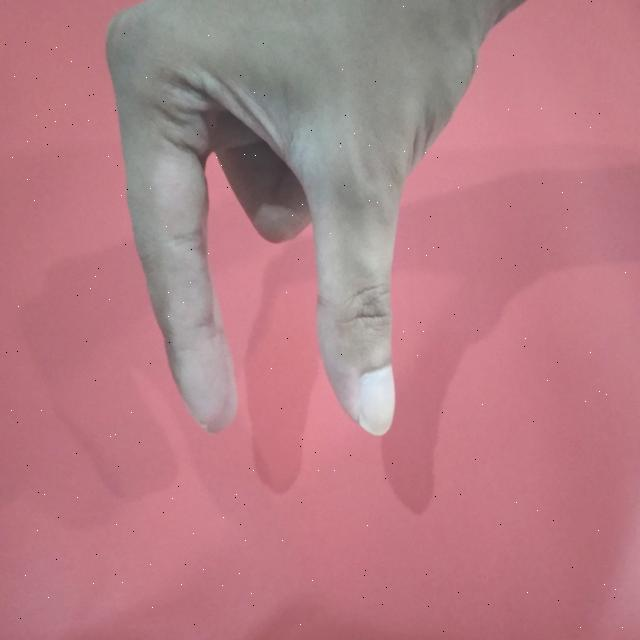Q: (96, 0, 560, 461)
